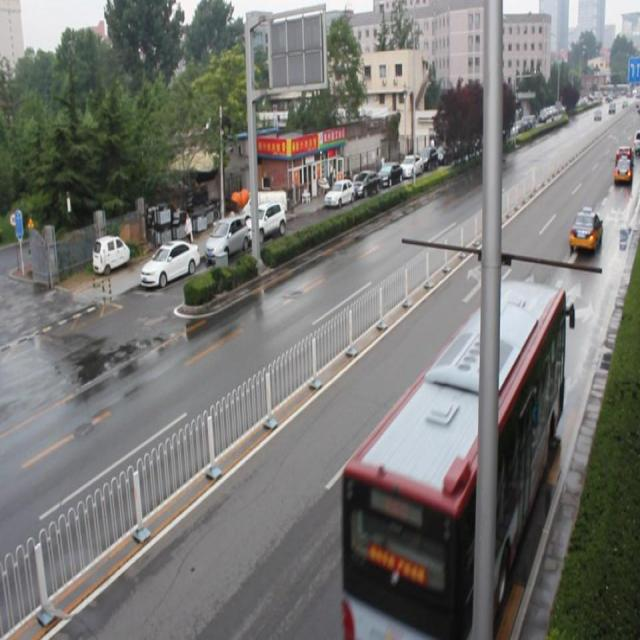car: (568, 206, 601, 253)
van: (338, 273, 567, 632)
